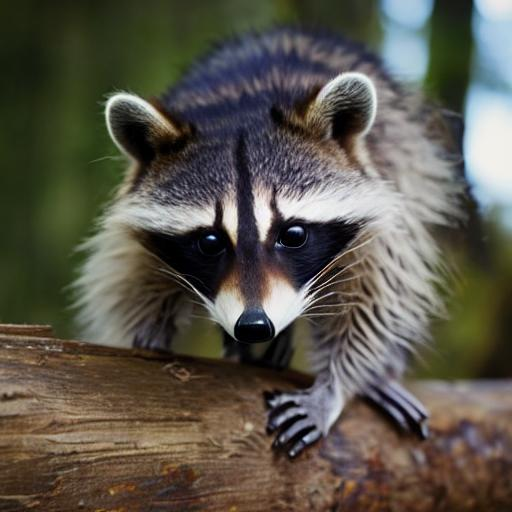raccoon: (63, 18, 474, 375)
